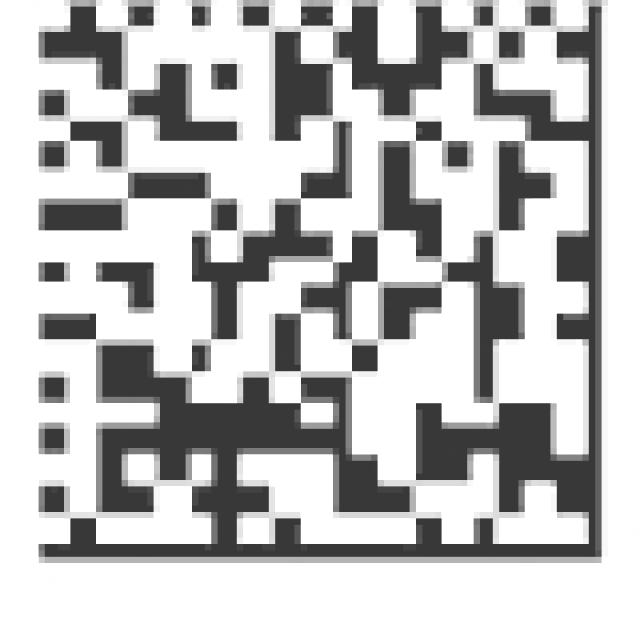DataMatrix: (26, 6, 614, 576)
